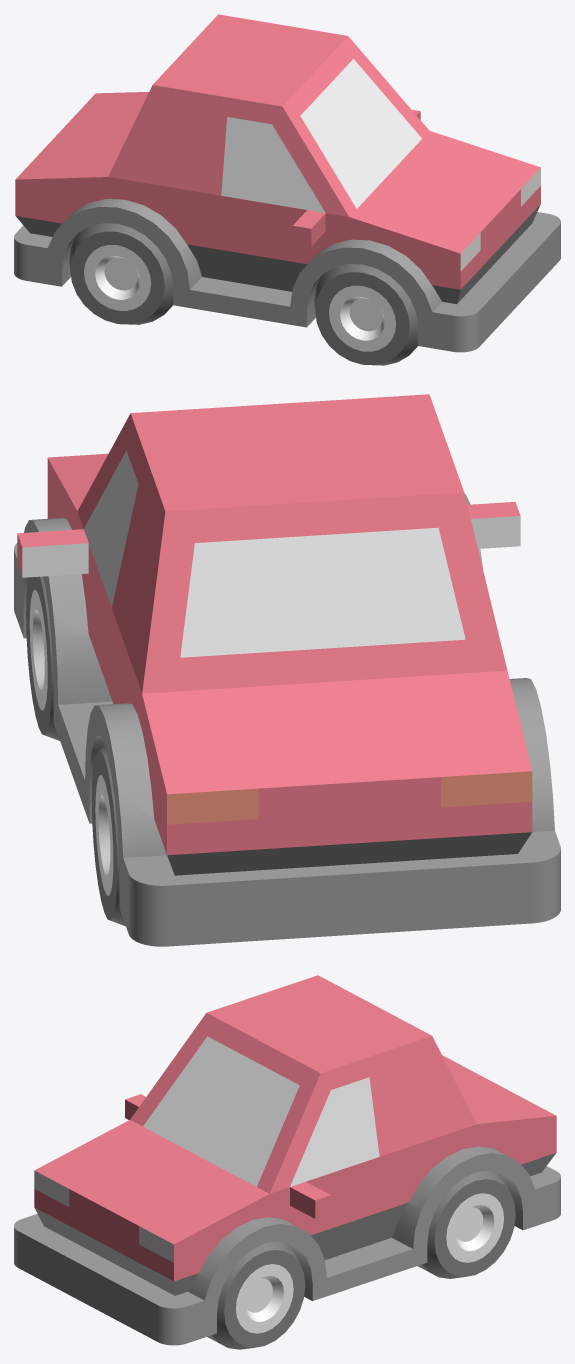
The model's file is low_poly_sedan.glb.
The picture shows the model from 3 angles, top to bottom: view 1: azimuth 30°, elevation 25°; view 2: azimuth 150°, elevation 25°; view 3: azimuth 270°, elevation 25°; orthographic projection. The views are drawn at different scales.
Parts seen in each view (by area): view 1: body, wheel_backRight, wheel_frontRight; view 2: body, wheel_backLeft, wheel_frontLeft; view 3: body, wheel_backLeft, wheel_frontLeft.
Boxes of the visible parts, x1,y1,x2,y2 form: body: (14, 14, 560, 352); wheel_backRight: (69, 223, 173, 324); wheel_frontRight: (314, 264, 418, 365); body: (14, 394, 560, 946); wheel_backLeft: (91, 747, 125, 926); wheel_frontLeft: (26, 576, 59, 740); body: (14, 975, 560, 1345); wheel_backLeft: (418, 1170, 515, 1278); wheel_frontLeft: (207, 1241, 305, 1349).
Size of the model in its own units: 2.49 by 1.3 by 2.68.
